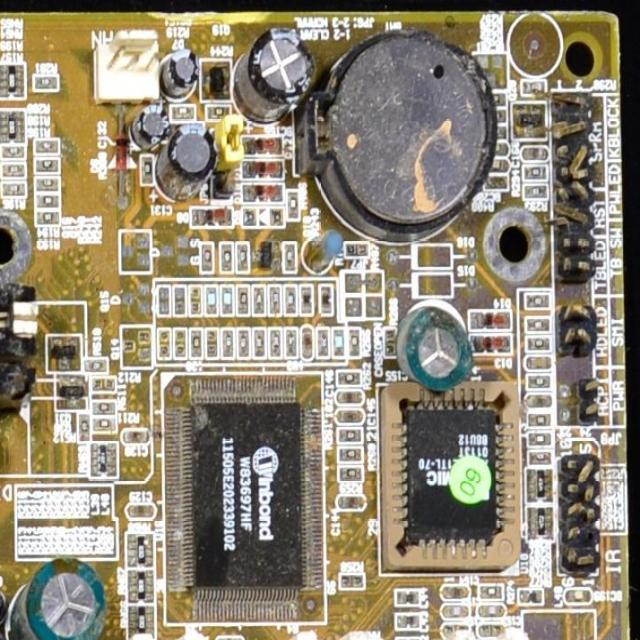IC: (176, 390, 310, 610)
capacitor: (126, 502, 150, 515), (122, 429, 144, 441), (343, 497, 361, 508), (523, 148, 541, 158), (447, 608, 466, 616), (447, 586, 463, 595), (484, 608, 500, 614), (450, 625, 465, 631), (482, 629, 496, 634), (496, 160, 504, 166), (224, 639, 238, 640)
resistor: (218, 241, 230, 266), (286, 192, 298, 216), (205, 104, 227, 117), (238, 288, 248, 314), (334, 328, 344, 351), (288, 242, 296, 268), (173, 105, 190, 117), (36, 138, 56, 148), (348, 332, 356, 357), (204, 246, 213, 268), (240, 332, 248, 355), (40, 179, 60, 188), (202, 288, 212, 306), (224, 332, 233, 352), (95, 418, 117, 426), (528, 456, 550, 464), (272, 336, 281, 355), (5, 183, 19, 195), (5, 162, 23, 171), (525, 171, 545, 179), (257, 290, 265, 310), (289, 335, 297, 355), (82, 416, 90, 436), (337, 470, 357, 478), (341, 451, 358, 460), (161, 291, 168, 312), (173, 288, 179, 312), (93, 380, 111, 388), (239, 242, 245, 265), (320, 332, 326, 355), (518, 594, 540, 600), (342, 433, 358, 441), (526, 187, 540, 196), (273, 292, 280, 310), (254, 333, 260, 351), (87, 359, 102, 366), (339, 372, 354, 379), (529, 321, 546, 327), (38, 79, 58, 84), (6, 147, 22, 153), (526, 298, 542, 304), (97, 404, 109, 412), (484, 588, 497, 595), (43, 212, 58, 218), (530, 437, 548, 442), (41, 194, 52, 202), (224, 288, 228, 310), (287, 291, 293, 305), (193, 333, 197, 353), (530, 342, 546, 347), (530, 379, 545, 384), (42, 164, 52, 170), (488, 181, 502, 184), (532, 418, 540, 422)
transistor: (51, 343, 76, 366), (518, 110, 541, 134), (208, 65, 228, 91), (62, 382, 81, 406), (259, 243, 274, 264)
